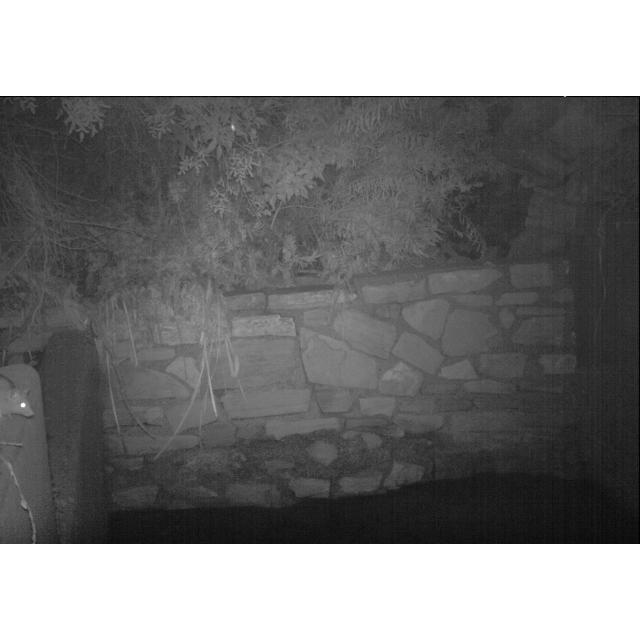animals: (1, 372, 36, 424)
